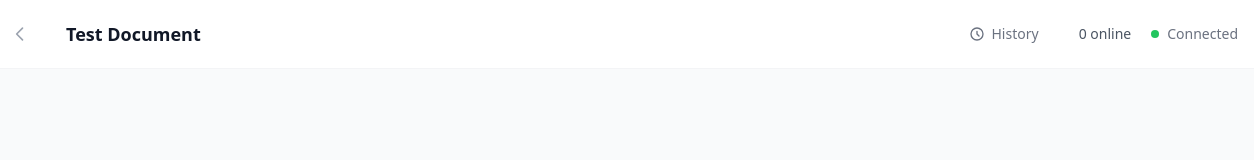
Test: Toolbar › editable title › should cancel on Escape key
Enter edit mode
Click the button titled "Click to edit title" at x=143, y=34, box [58, 16, 229, 52]
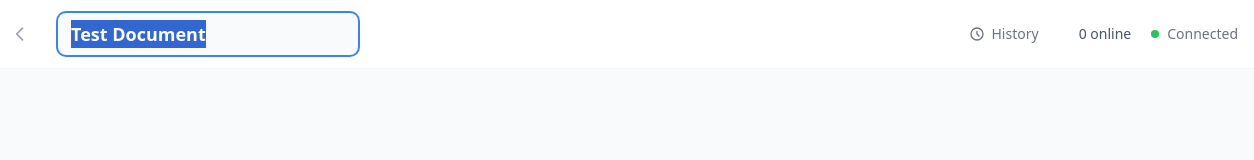
Type something
Replace the text in the field with "Changed Title" at x=208, y=34, box [58, 13, 358, 55]
Then press Escape
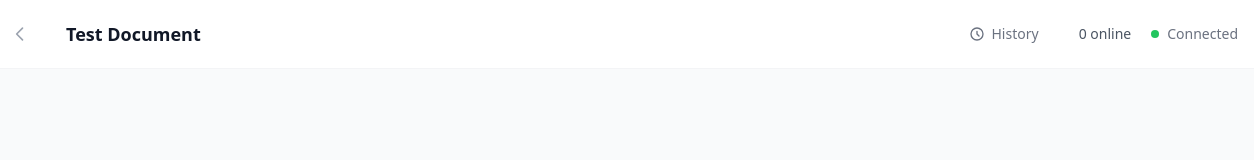
Result: the field is gone
Result: the text "Test Document" is shown at [66, 20, 201, 48]
